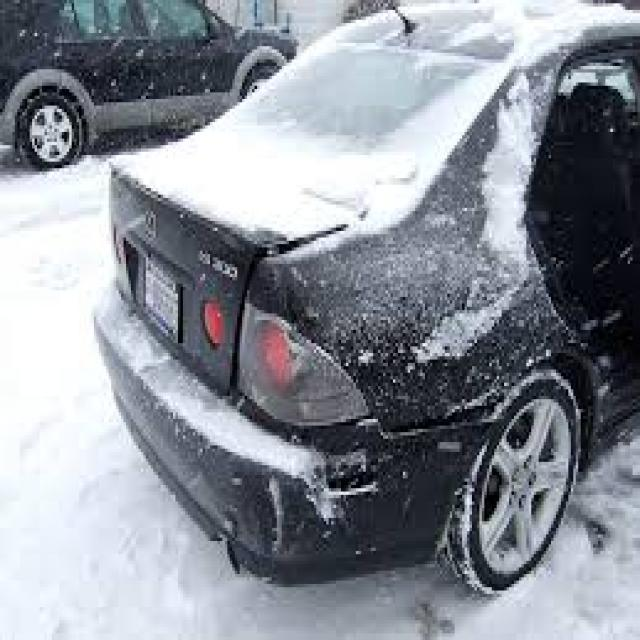moderate: (104, 10, 640, 633)
